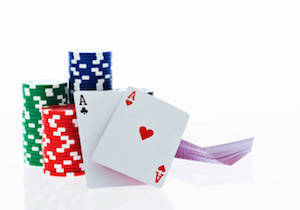AceOfHearts: (95, 86, 192, 190)
AceOfSpades: (69, 86, 117, 190)
